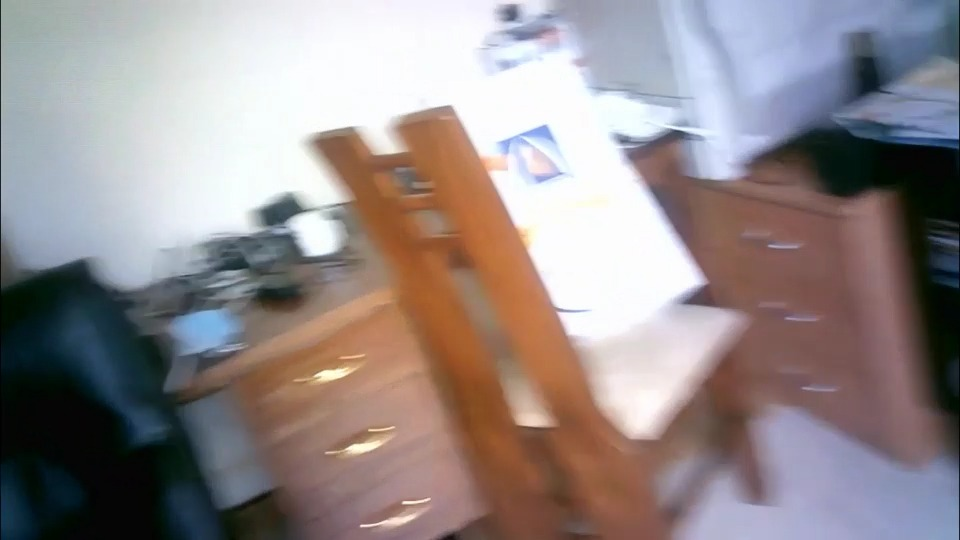wheat_flour_blue_label: (433, 50, 707, 336)
